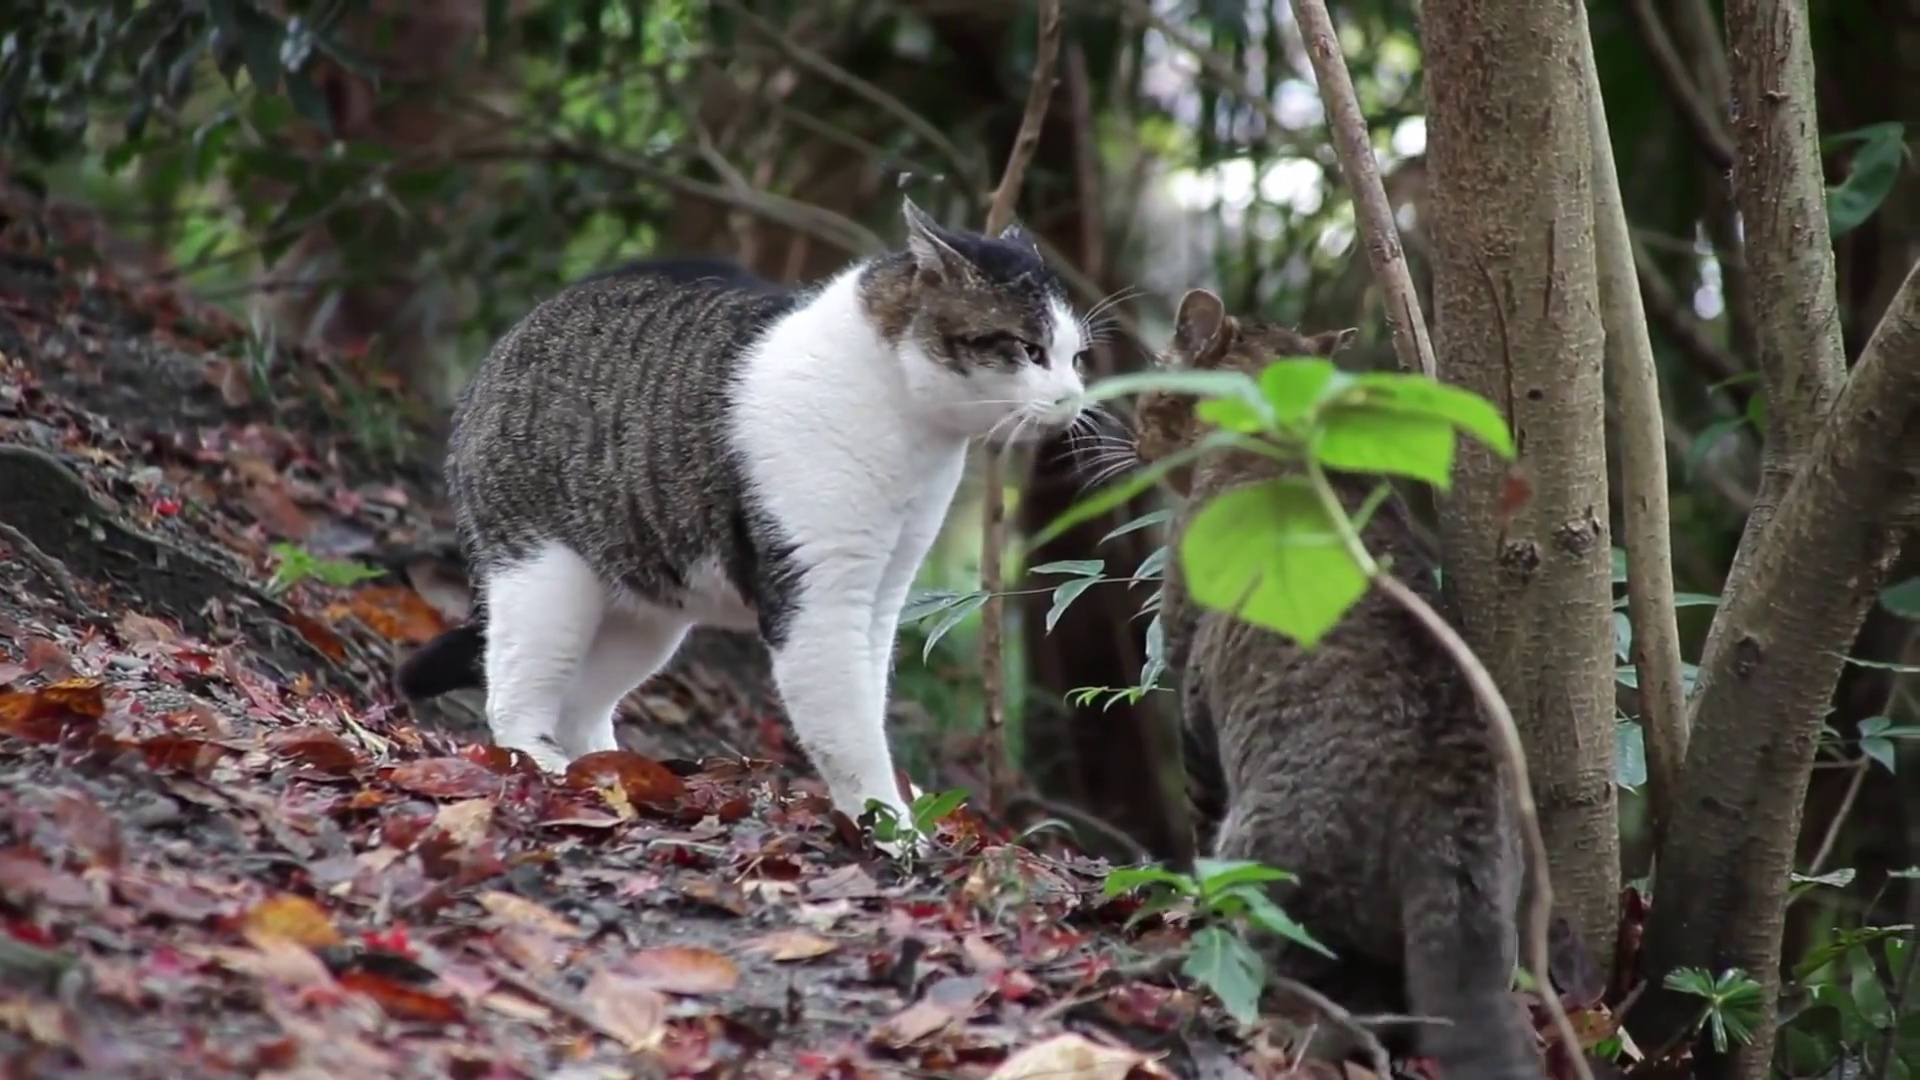black-white: (398, 194, 1089, 860)
pure black: (1130, 290, 1547, 1080)
